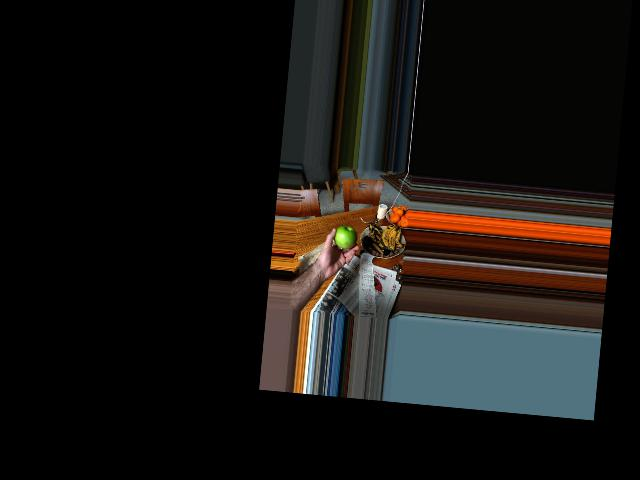apple: (332, 225, 355, 249)
